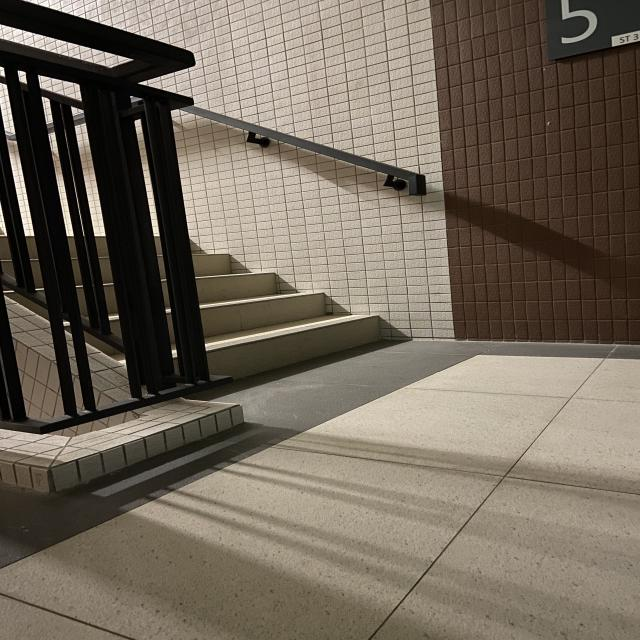Stairs: (5, 218, 421, 390)
